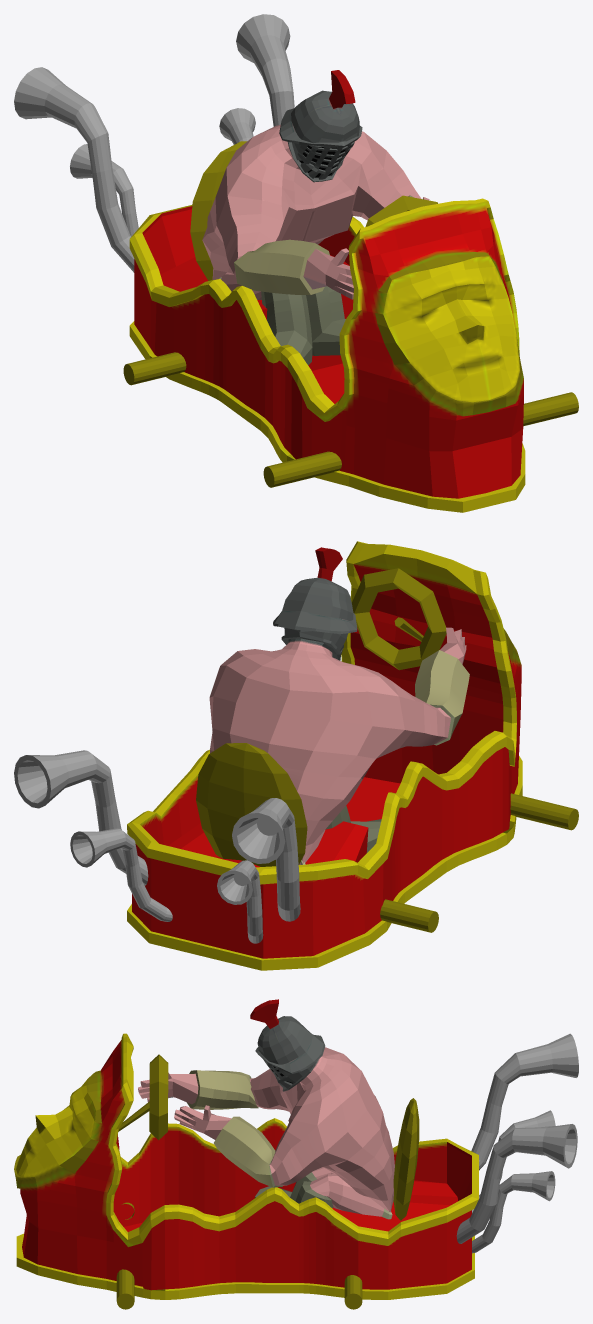
File: GladiLanzamiento_000528.obj
The picture shows the model from 3 angles, top to bottom: view 1: azimuth 30°, elevation 25°; view 2: azimuth 150°, elevation 25°; view 3: azimuth 270°, elevation 25°; orthographic projection. The views are drawn at different scales.
Visible parts, largest first — view 1: GladiChasis_GladiChasisH, Gadiador_Gladiador_H.001, GladiTubos_GladiTubosH, GladiVolante_GladiVolanteH; view 2: GladiChasis_GladiChasisH, Gadiador_Gladiador_H.001, GladiVolante_GladiVolanteH, GladiTubos_GladiTubosH; view 3: GladiChasis_GladiChasisH, Gadiador_Gladiador_H.001, GladiTubos_GladiTubosH, GladiVolante_GladiVolanteH.
Part boxes in pixels (bbox=[...]): GladiChasis_GladiChasisH: bbox=[129, 198, 525, 512]; Gadiador_Gladiador_H.001: bbox=[202, 70, 429, 365]; GladiTubos_GladiTubosH: bbox=[14, 14, 294, 272]; GladiVolante_GladiVolanteH: bbox=[123, 141, 578, 487]; GladiChasis_GladiChasisH: bbox=[127, 541, 522, 970]; Gadiador_Gladiador_H.001: bbox=[209, 547, 469, 864]; GladiVolante_GladiVolanteH: bbox=[196, 568, 578, 932]; GladiTubos_GladiTubosH: bbox=[14, 750, 300, 943]; GladiChasis_GladiChasisH: bbox=[14, 1033, 478, 1299]; Gadiador_Gladiador_H.001: bbox=[138, 999, 394, 1219]; GladiTubos_GladiTubosH: bbox=[456, 1033, 578, 1253]; GladiVolante_GladiVolanteH: bbox=[116, 1054, 419, 1309].
Size of the model in its own units: 5.46 by 5.42 by 10.78.
